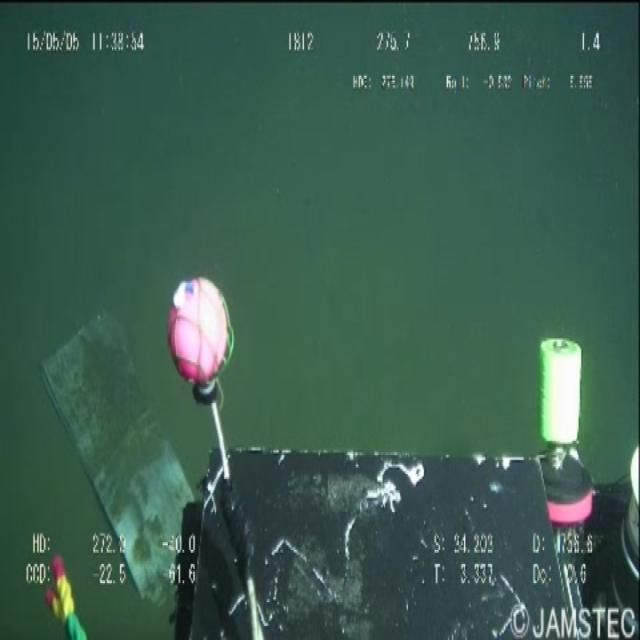Metal: (36, 276, 200, 590)
